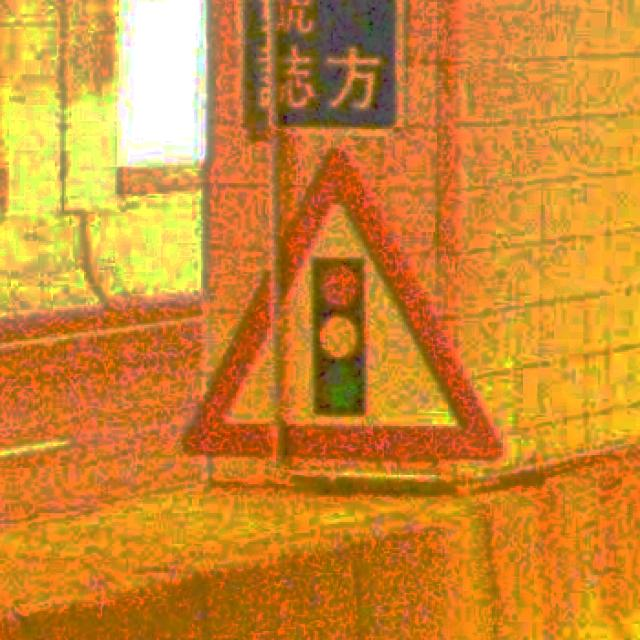signalahead: (179, 143, 505, 466)
